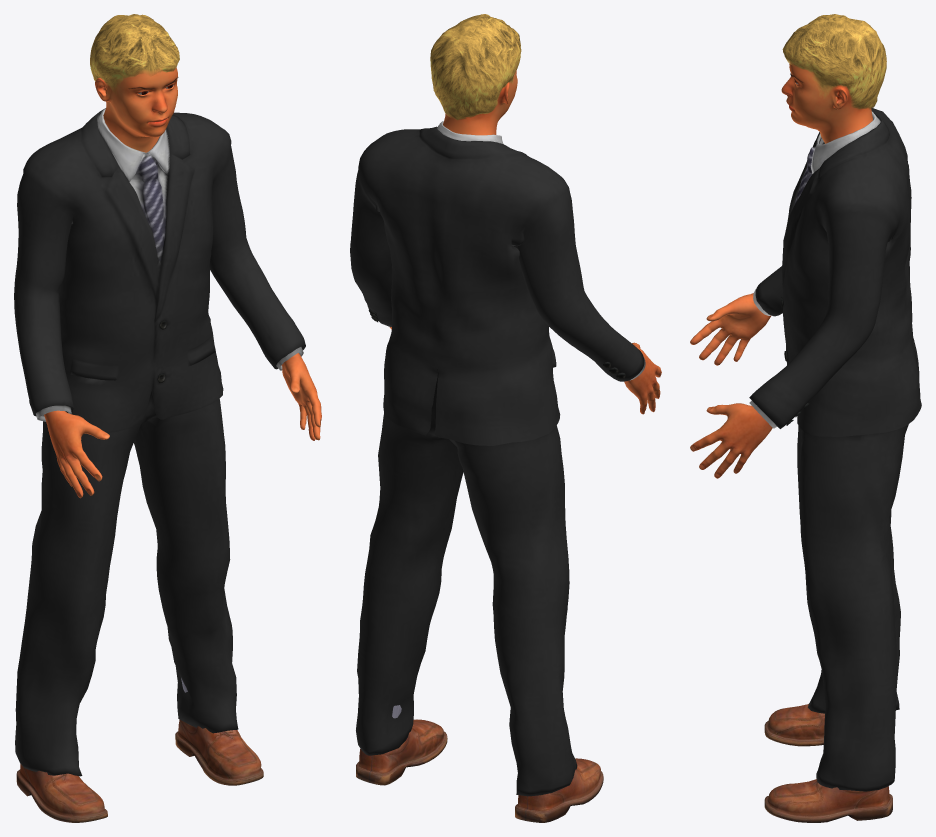
Rendered from president.glb.
3 views of the same model, side by side, from view 1: azimuth 30°, elevation 25°; view 2: azimuth 150°, elevation 25°; view 3: azimuth 270°, elevation 25° (orthographic).
Parts seen in each view (by area): view 1: Human.male_elegantsuit01, Human, Human.shoes01, Human.short02; view 2: Human.male_elegantsuit01, Human.short02, Human.shoes01, Human; view 3: Human.male_elegantsuit01, Human, Human.short02, Human.shoes01.
Boxes of the visible parts, box(x1,y1,x2,y2) form: Human.male_elegantsuit01: box(14, 108, 305, 776); Human: box(44, 67, 321, 498); Human.shoes01: box(16, 678, 263, 822); Human.short02: box(90, 14, 179, 94); Human.male_elegantsuit01: box(350, 121, 645, 796); Human.short02: box(430, 14, 521, 120); Human.shoes01: box(356, 705, 603, 822); Human: box(389, 69, 661, 414); Human.male_elegantsuit01: box(749, 108, 921, 791); Human: box(690, 62, 872, 478); Human.short02: box(782, 14, 886, 109); Human.shoes01: box(764, 704, 892, 822).
Bounding box in the file's own units: 0.6744 × 1.83 × 0.5097.
6 materials, 6 textured.
